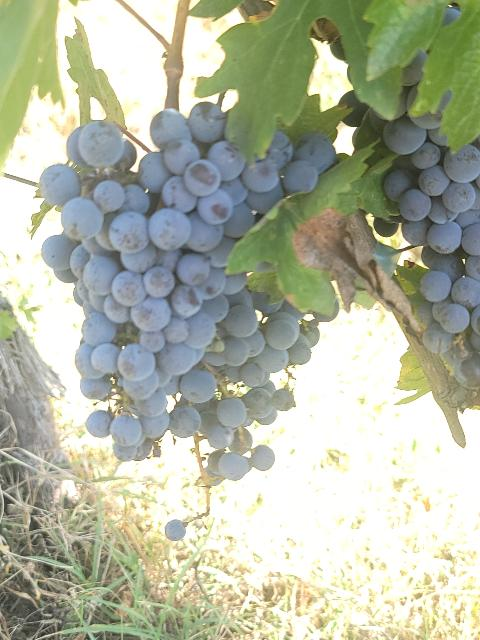grapes: (39, 101, 335, 449), (374, 112, 480, 389), (175, 289, 319, 480)
